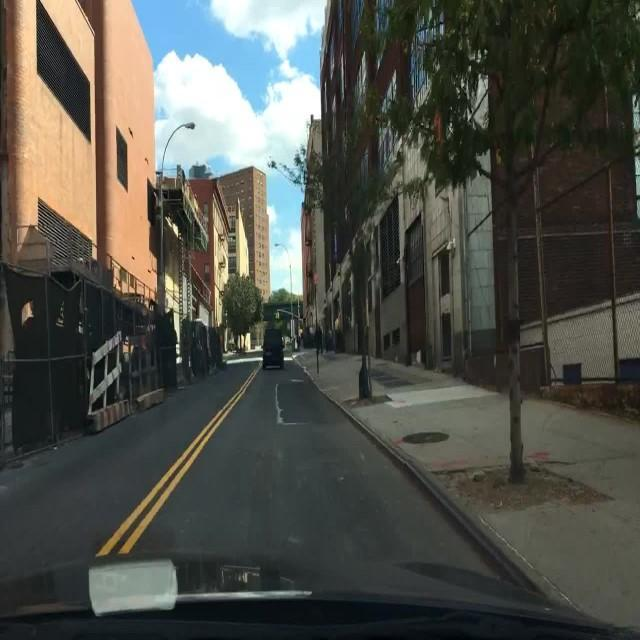normal: (245, 321, 299, 376)
